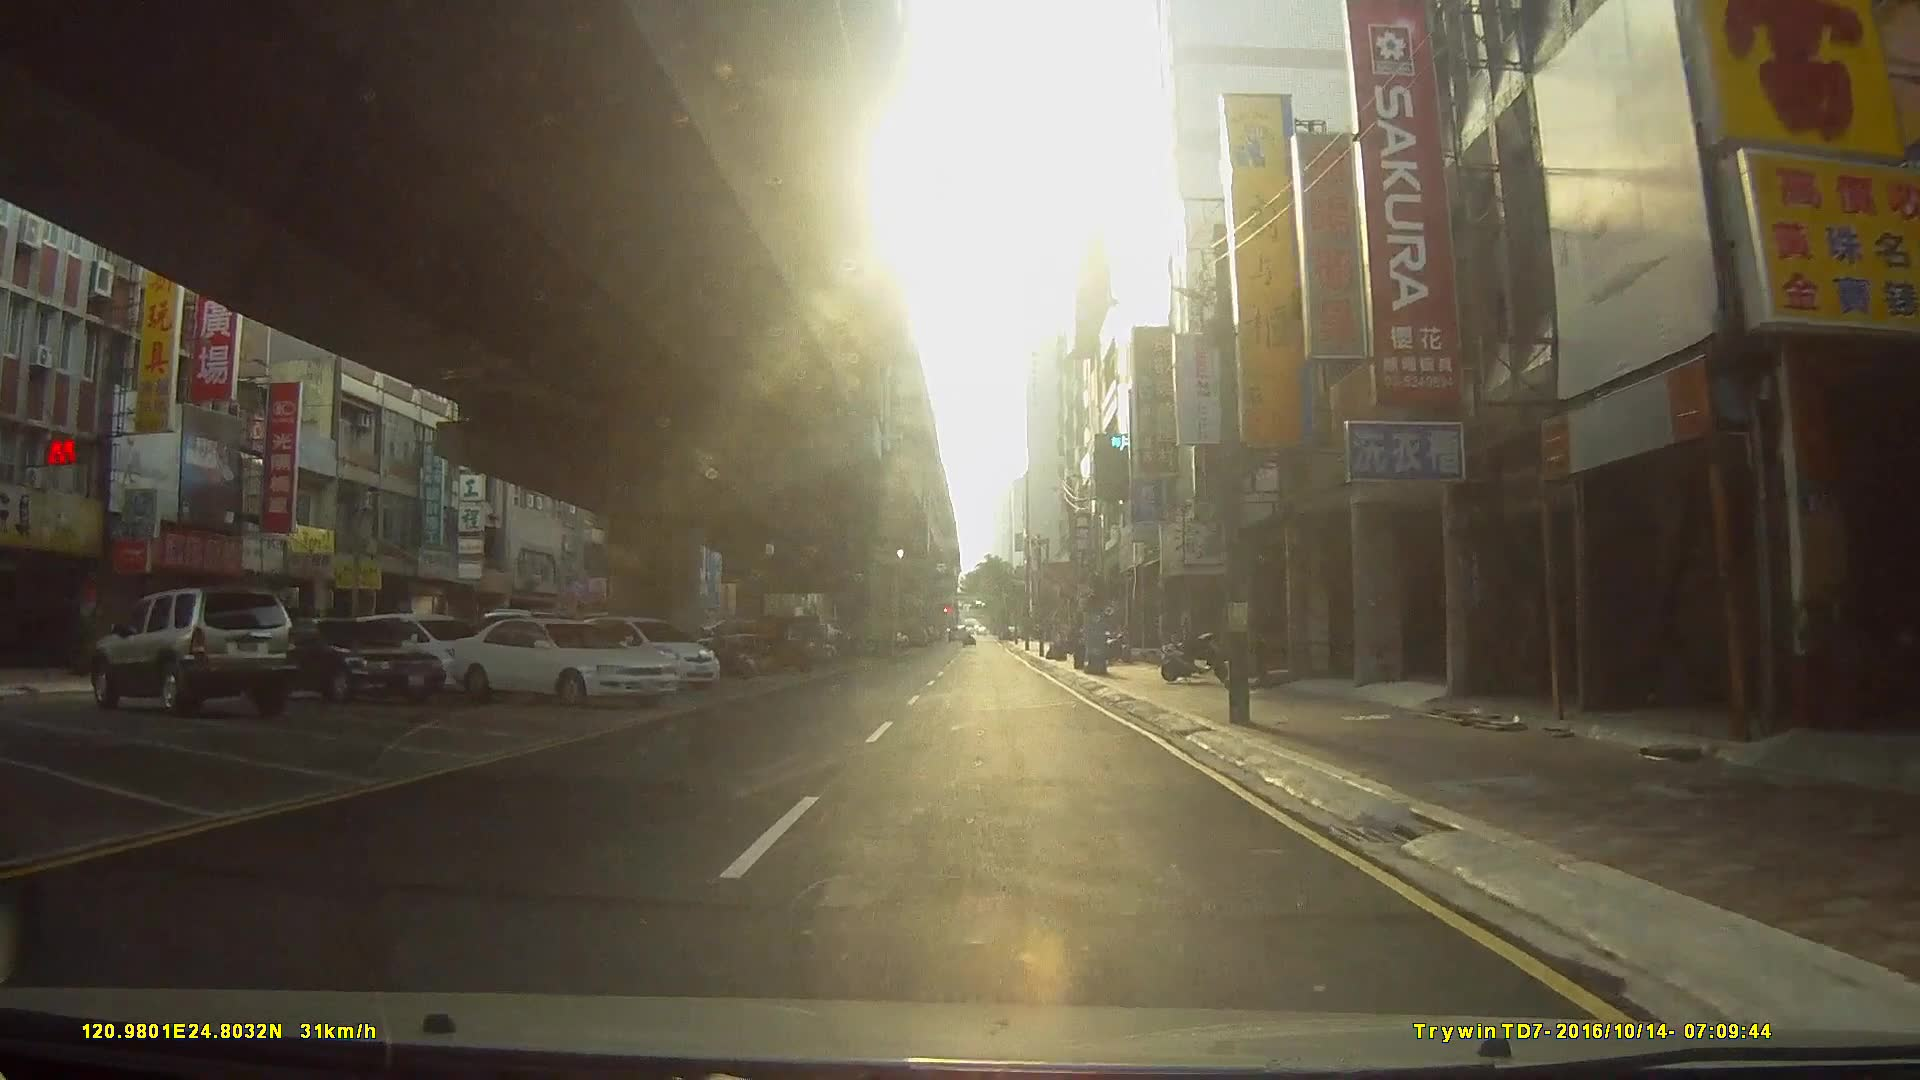vehicle: (87, 588, 297, 712), (444, 615, 682, 708), (222, 618, 440, 707), (564, 615, 719, 696)
